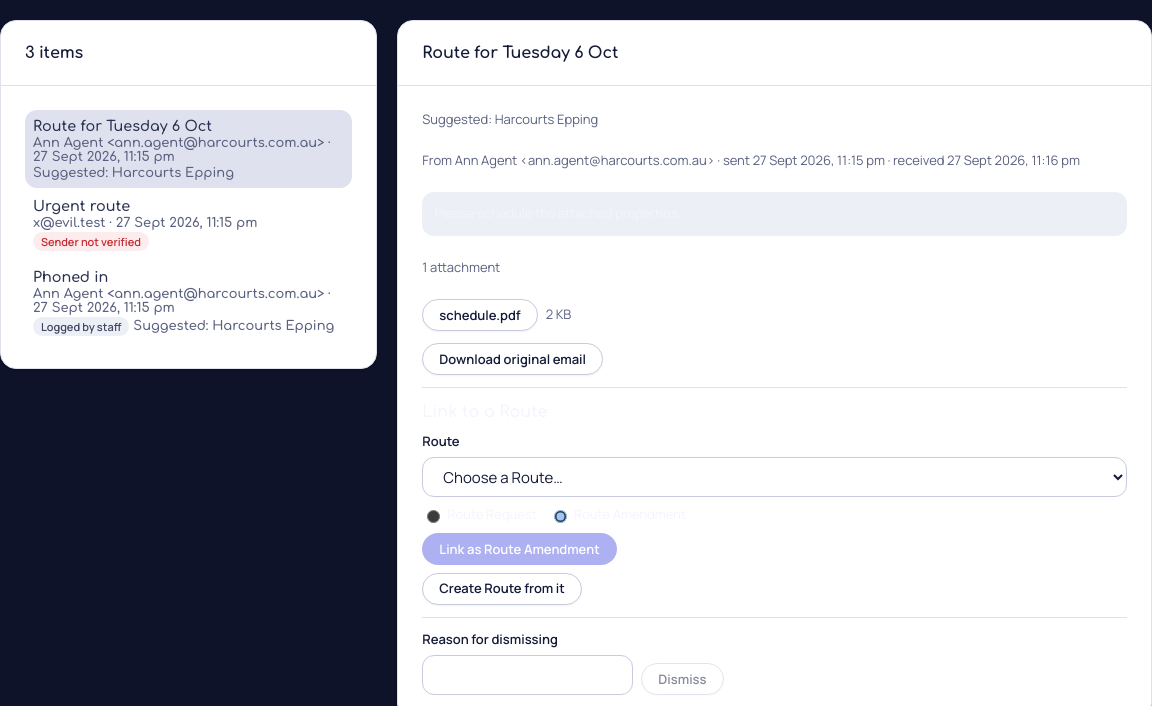
Test case: AdministratorRouteRequestsPage › needs a reason to dismiss, then hides the email
(page scrolled)
Expected: the heading "3 items" is shown, [25,41,83,65]
Expected: the button "Dismiss" is disabled, [641,663,724,695]
In the field labelled "Reason for dismissing": (528, 675) [422,655,633,695], type "Not a route request"
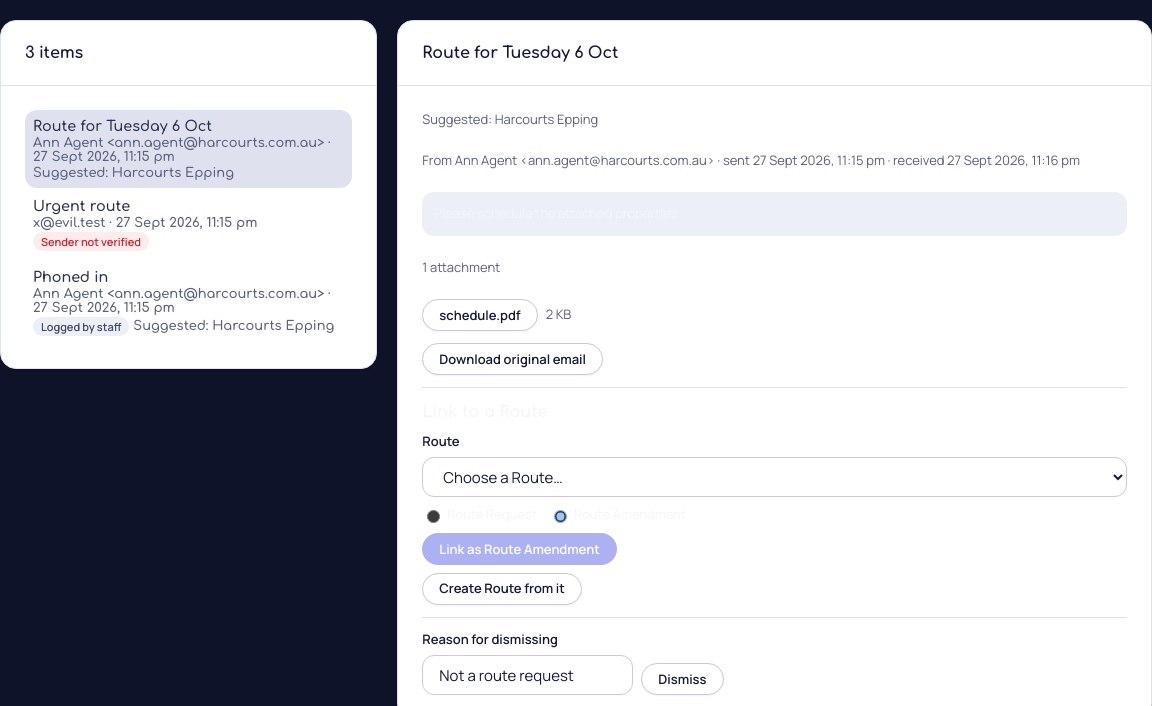
Click the button "Dismiss": click(682, 679) [641,663,724,695]
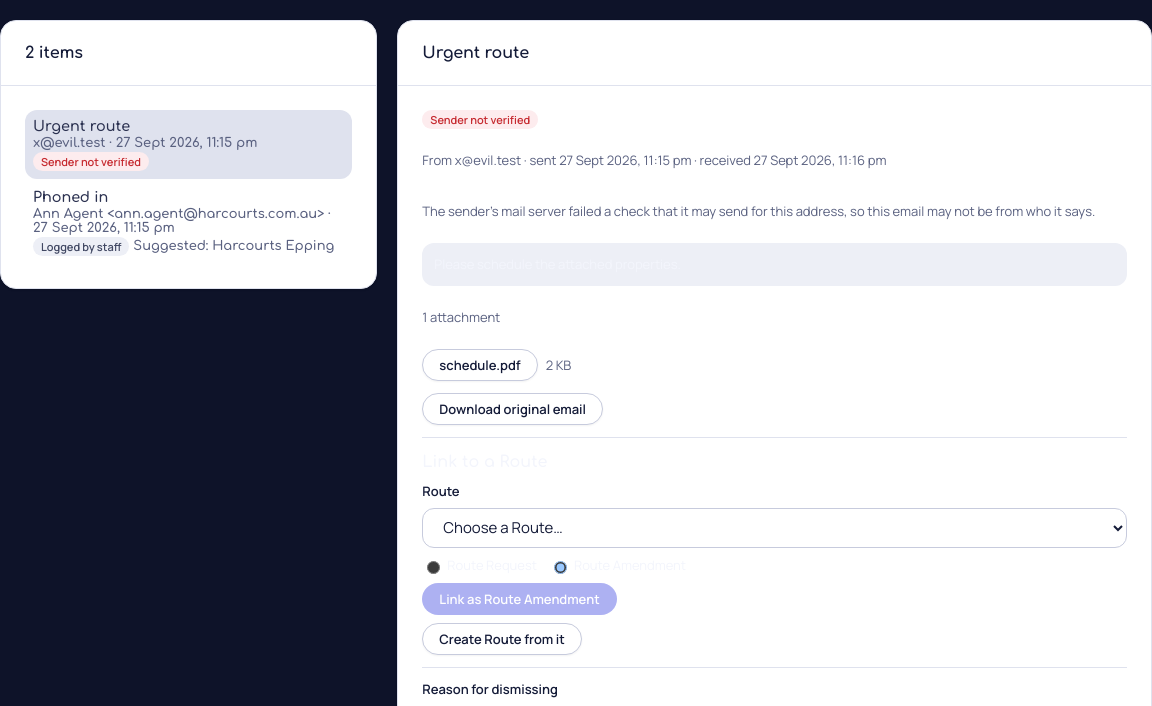
Result: the heading "2 items" is shown at [25,41,83,65]
